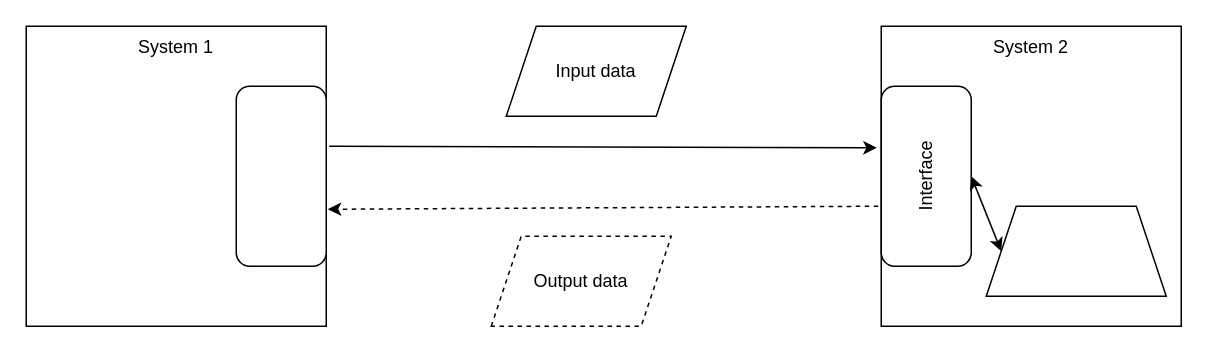
Some shapes in this 1208 by 353 pixel diagram are drawn without their labels. The centre of each missing label's shape, as x and y in pixels:
Client Stub: pixel 280 175
Procedure: pixel 1075 250
